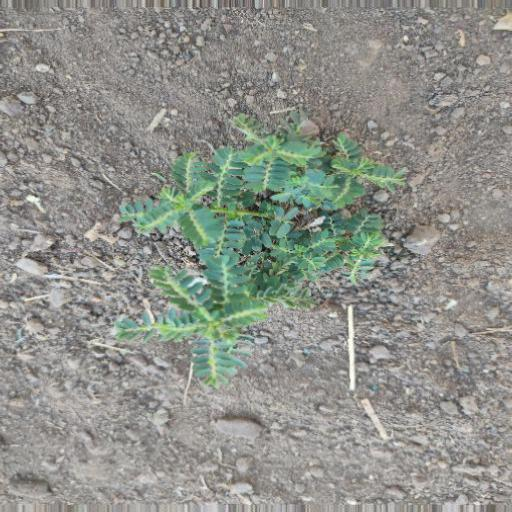weed: (109, 125, 406, 380)
